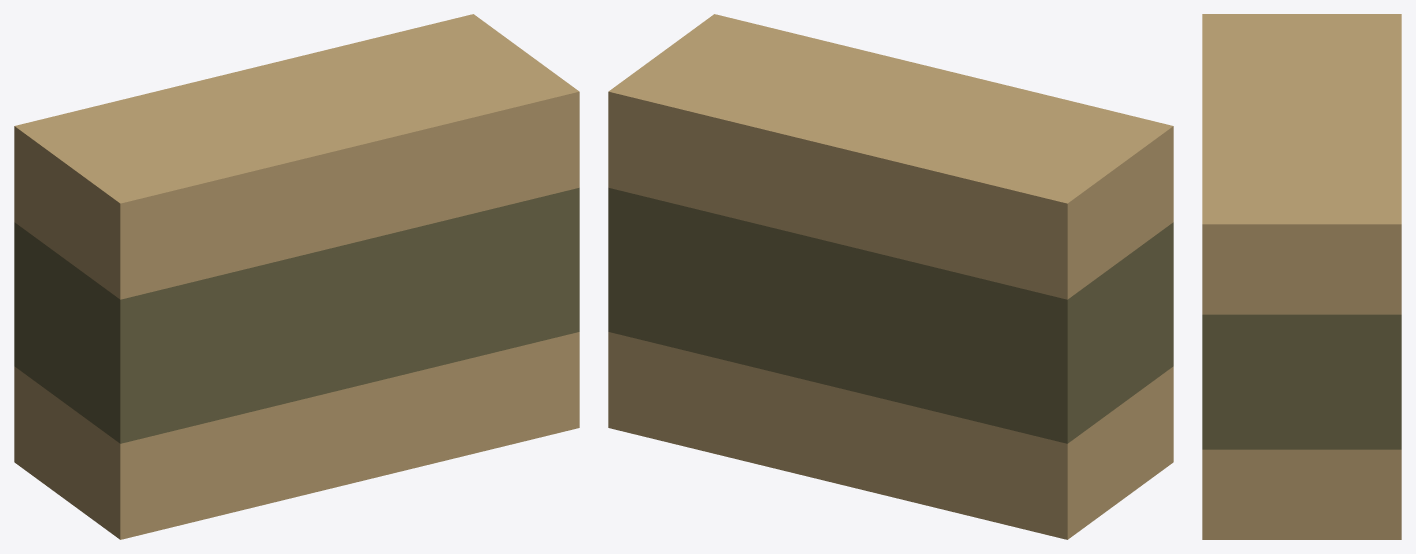
File: cartridge_box_5_d_56x45.glb
3 views of the same model, side by side, from view 1: azimuth 30°, elevation 25°; view 2: azimuth 150°, elevation 25°; view 3: azimuth 270°, elevation 25° (orthographic). The views are drawn at different scales.
Visible parts, largest first — view 1: package:carton; view 2: package:carton; view 3: package:carton.
Boxes of the visible parts, bbox=[...] form: package:carton: bbox=[14, 14, 579, 539]; package:carton: bbox=[608, 14, 1173, 539]; package:carton: bbox=[1202, 14, 1401, 539].
Size of the model in its own units: 0.1 by 0.07 by 0.04.
